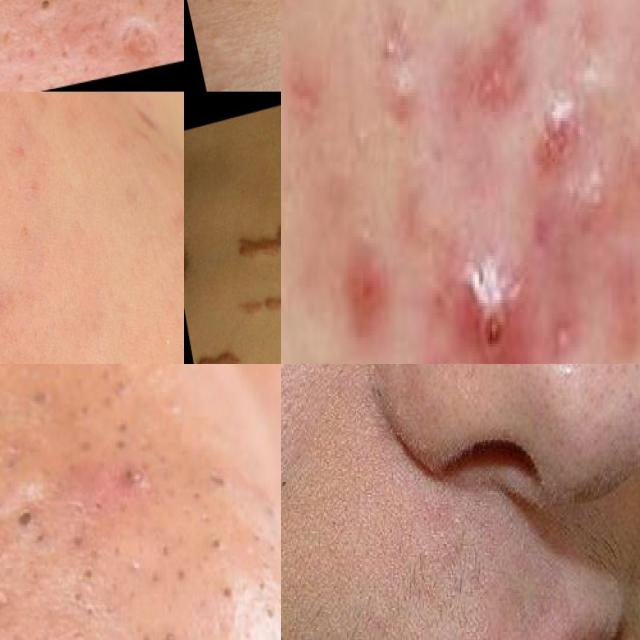acne_scars: (86, 0, 184, 75)
comedone: (360, 365, 406, 469), (281, 414, 300, 505), (14, 502, 43, 538), (219, 583, 236, 613), (32, 0, 60, 16), (159, 633, 179, 640)
cystic: (441, 259, 532, 364)
flat_wart: (210, 70, 242, 92)
keloid: (225, 207, 281, 276), (231, 280, 281, 327), (191, 339, 249, 364)
papule: (528, 86, 574, 178)
